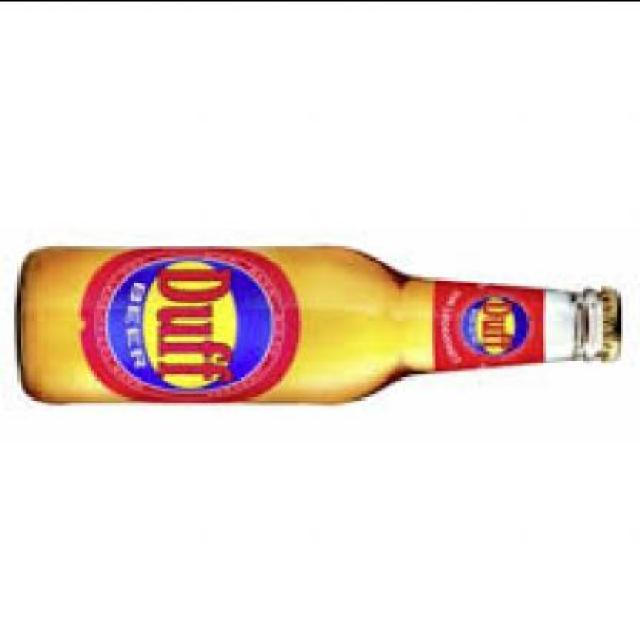GLASS: (20, 238, 606, 402)
METAL: (606, 282, 626, 356)
